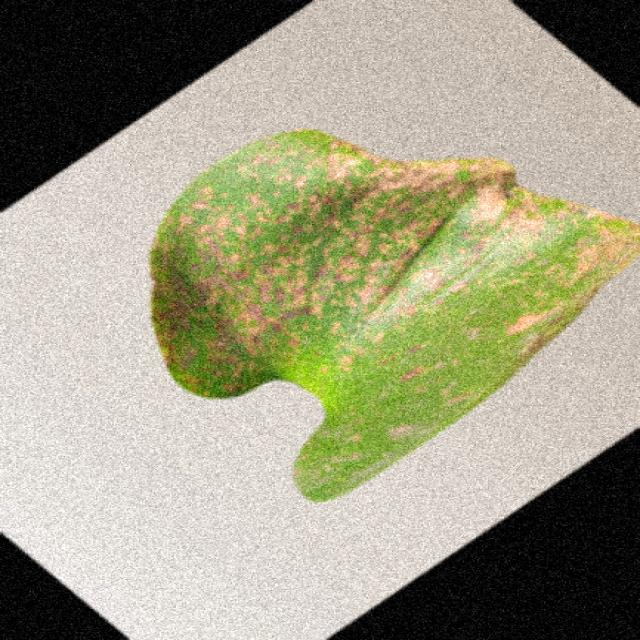daun berpenyakit bercak: (152, 130, 638, 501)
